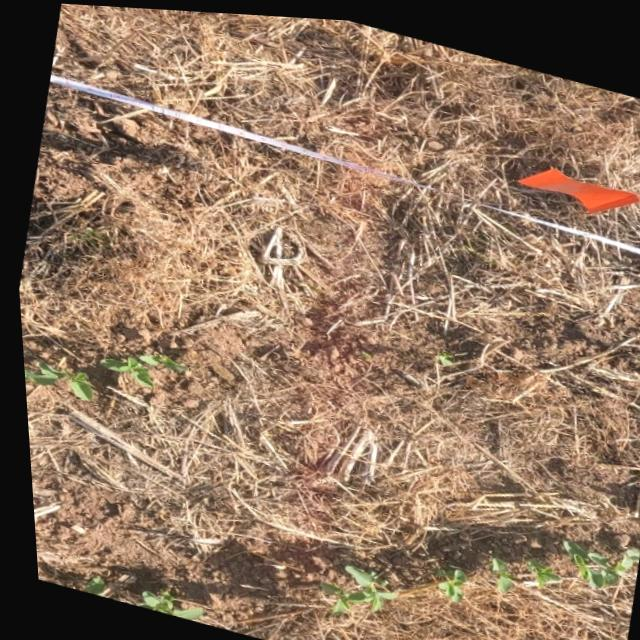grassy_weed: (65, 214, 107, 244)
soy_plant: (312, 560, 390, 609), (95, 351, 181, 385), (19, 359, 87, 399), (558, 535, 606, 579), (126, 588, 194, 618), (427, 562, 459, 596), (483, 552, 508, 585), (599, 541, 631, 566), (519, 555, 550, 580), (77, 575, 98, 595), (432, 348, 449, 360)
